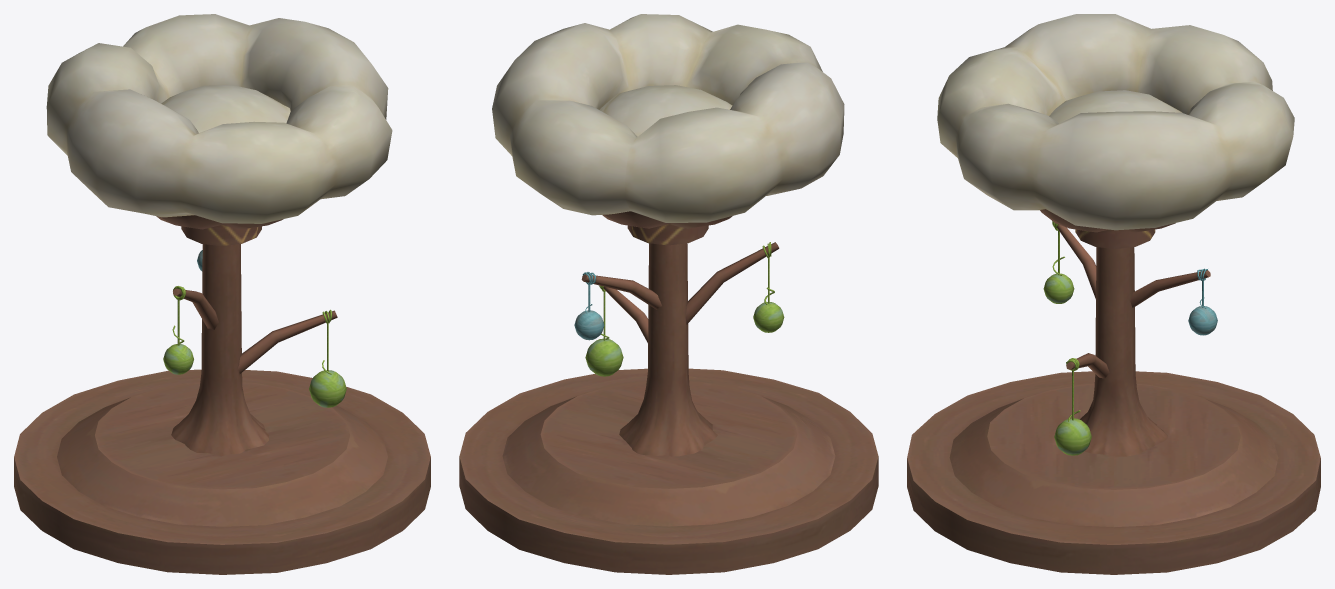
Rendered from Homeworld_Interior_Md_Decoration_Prop_CatClimb_02_Vo.fbx.
3 views of the same model, side by side, from view 1: azimuth 30°, elevation 25°; view 2: azimuth 150°, elevation 25°; view 3: azimuth 270°, elevation 25° (orthographic).
Parts seen in each view (by area): view 1: Indoor_Md_Prop_Shelf_02_Vo; view 2: Indoor_Md_Prop_Shelf_02_Vo; view 3: Indoor_Md_Prop_Shelf_02_Vo.
Part boxes in pixels (x1,y1,x2,y2): Indoor_Md_Prop_Shelf_02_Vo: [14, 14, 430, 574]; Indoor_Md_Prop_Shelf_02_Vo: [459, 14, 878, 574]; Indoor_Md_Prop_Shelf_02_Vo: [907, 14, 1320, 574].
Bounding box in the file's own units: 1.32 × 1.49 × 1.32.
Materials: 1 (1 with a texture image).
